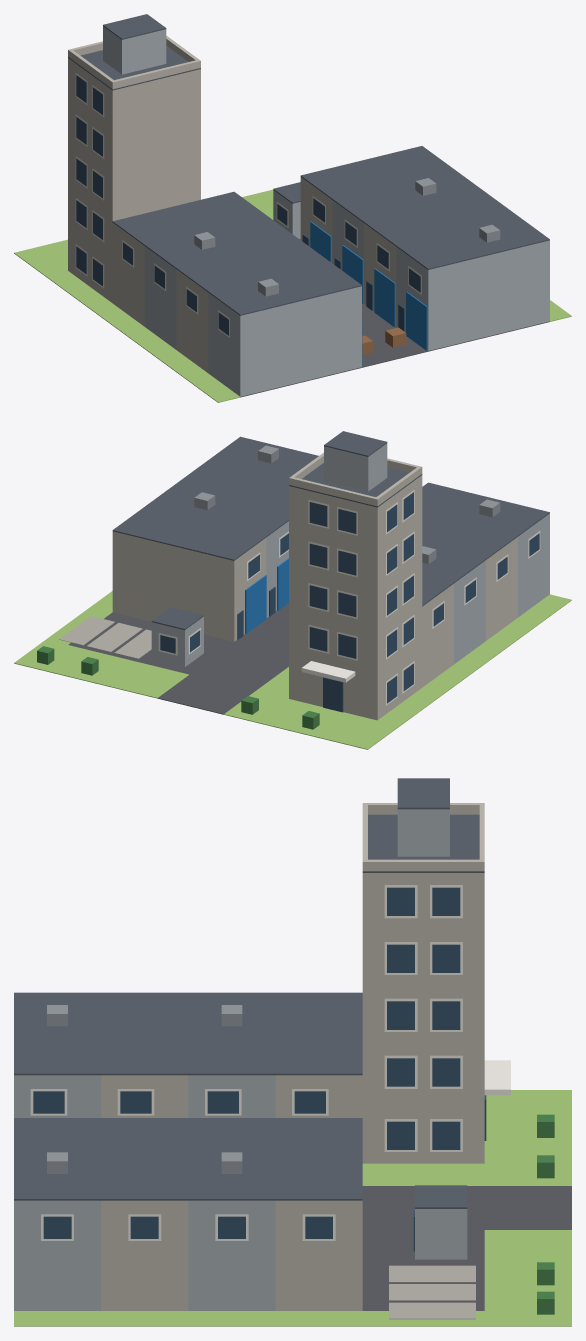
3 views of the same model, one above another, from view 1: azimuth 30°, elevation 25°; view 2: azimuth 150°, elevation 25°; view 3: azimuth 270°, elevation 25° (orthographic). The views are drawn at different scales.
Parts seen in each view (by area): view 1: unit (×8), roof (×10), office, lawn (×3), garage_door (×4), plant_room, asphalt, parapet, gatehouse; view 2: roof (×11), unit (×6), office, lawn (×4), asphalt (×3), window_glass (×8), plant_room, parking_bay (×3), garage_door (×2), gatehouse, parapet (×2), canopy (+1 smaller); view 3: roof (×11), unit (×8), office, lawn (×4), asphalt (×2), window_glass (×14), parking_bay (×3), gatehouse, plant_room, parapet (×2), canopy.
Boxes of the visible parts, <box> form: unit (×8): <box>112,177,549,396</box>; roof (×10): <box>68,14,549,315</box>; office: <box>68,58,200,302</box>; lawn (×3): <box>14,189,273,402</box>; garage_door (×4): <box>310,221,427,350</box>; plant_room: <box>103,26,166,74</box>; asphalt: <box>240,304,549,397</box>; parapet: <box>110,59,200,89</box>; gatehouse: <box>273,190,300,238</box>; roof (×11): <box>112,431,549,629</box>; unit (×6): <box>112,513,549,687</box>; office: <box>289,475,422,720</box>; lawn (×4): <box>14,594,571,749</box>; asphalt (×3): <box>68,603,288,714</box>; window_glass (×8): <box>309,502,356,658</box>; plant_room: <box>324,443,387,491</box>; parking_bay (×3): <box>59,616,151,658</box>; garage_door (×2): <box>245,558,288,633</box>; gatehouse: <box>151,616,203,666</box>; parapet (×2): <box>289,467,420,506</box>; canopy: <box>301,661,355,682</box>; roof (×11): <box>14,778,484,1208</box>; unit (×8): <box>14,1075,362,1310</box>; office: <box>362,873,484,1163</box>; lawn (×4): <box>14,1090,571,1326</box>; asphalt (×2): <box>362,1186,571,1310</box>; window_glass (×14): <box>33,887,460,1149</box>; parking_bay (×3): <box>389,1265,475,1319</box>; gatehouse: <box>415,1209,467,1259</box>; plant_room: <box>397,809,449,856</box>; parapet (×2): <box>368,803,479,871</box>; canopy: <box>484,1060,510,1095</box>.
Size of the model in its own units: 32 by 21.66 by 32.
